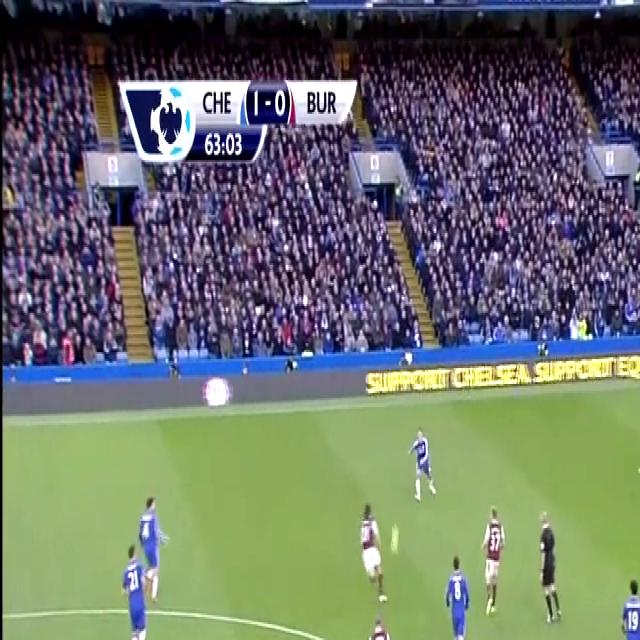referee: (532, 502, 568, 634)
soccer-player: (135, 487, 172, 612), (117, 537, 155, 640), (353, 495, 388, 604), (436, 546, 475, 640), (480, 503, 510, 625), (407, 420, 442, 510), (610, 570, 640, 640), (358, 610, 397, 640), (634, 423, 640, 526)
